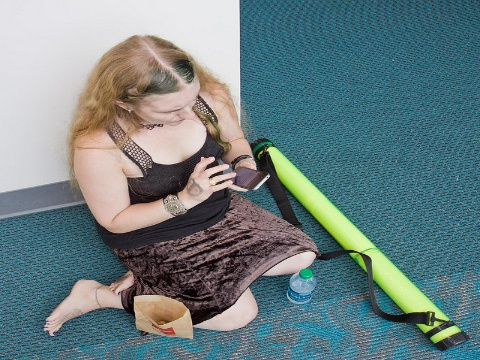hand: (183, 155, 237, 200)
